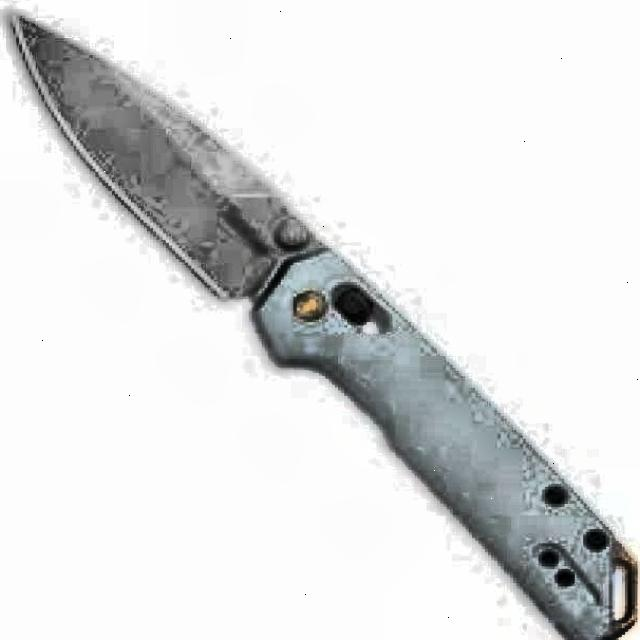knife: (5, 4, 639, 640)
